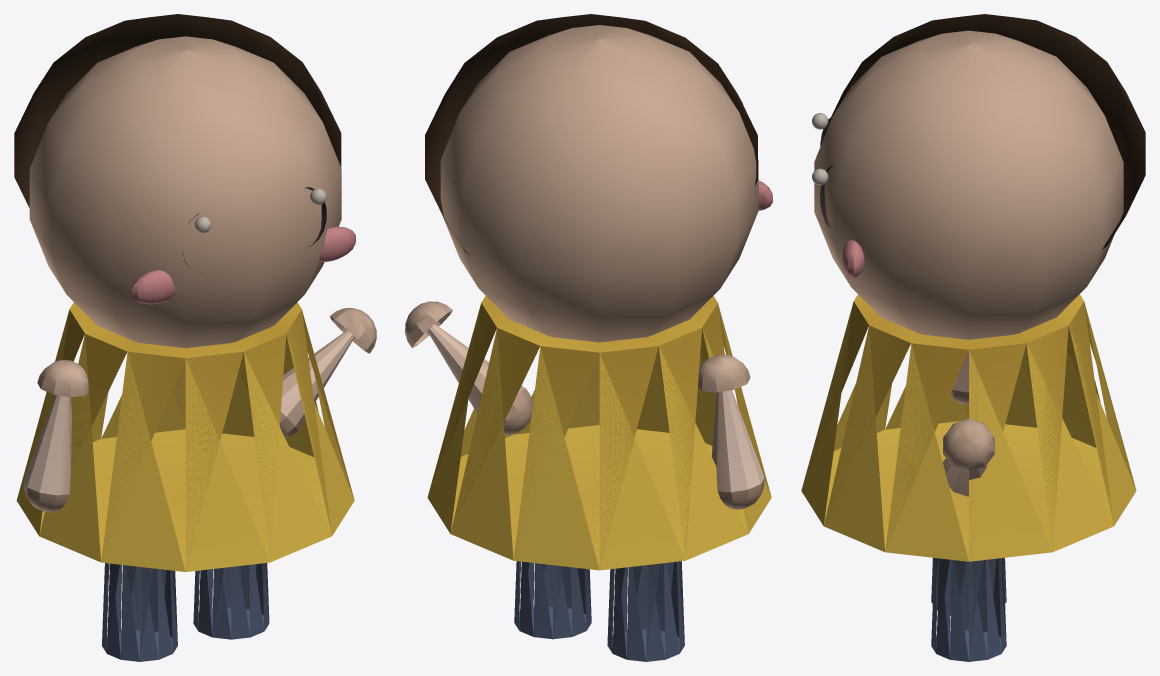
File: pbf6241b4.glb
3 views of the same model, side by side, from view 1: azimuth 30°, elevation 25°; view 2: azimuth 150°, elevation 25°; view 3: azimuth 270°, elevation 25° (orthographic). The views are drawn at different scales.
Parts seen in each view (by area): view 1: pet_pbf6241b4; view 2: pet_pbf6241b4; view 3: pet_pbf6241b4.
Boxes of the visible parts, bbox=[...] form: pet_pbf6241b4: bbox=[14, 14, 376, 661]; pet_pbf6241b4: bbox=[405, 14, 772, 661]; pet_pbf6241b4: bbox=[801, 14, 1145, 661].
Bounding box in the file's own units: 0.3783 × 0.625 × 0.3287.
